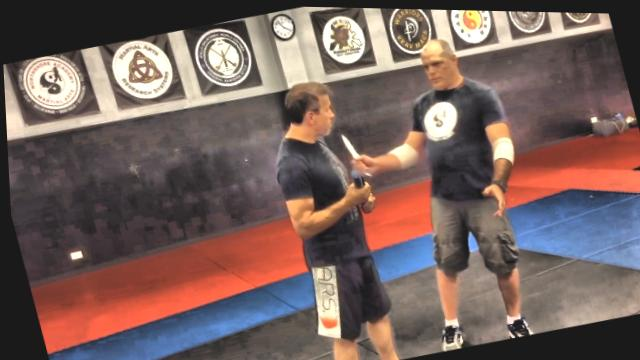knife: (337, 125, 374, 179)
